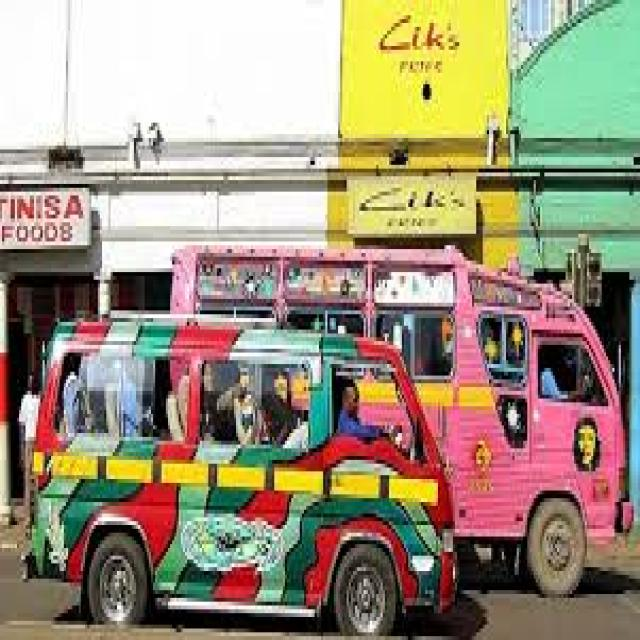bus: (457, 257, 638, 597)
matatu: (11, 337, 457, 640)
